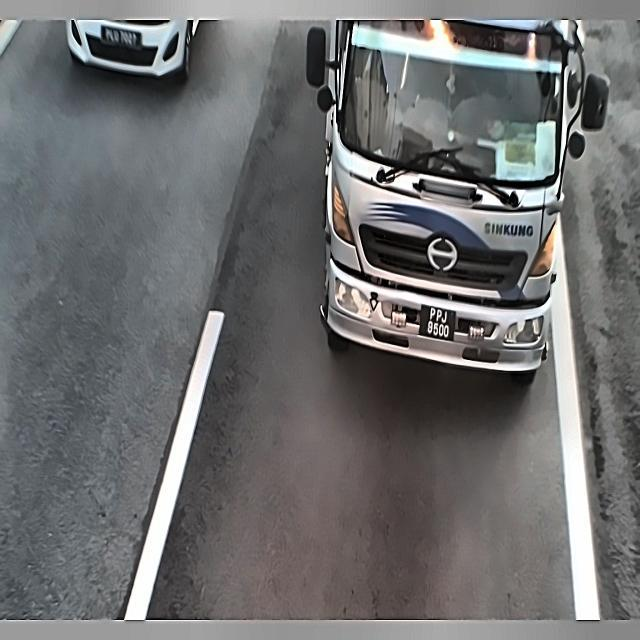car: (417, 302, 462, 348), (92, 21, 147, 53)
